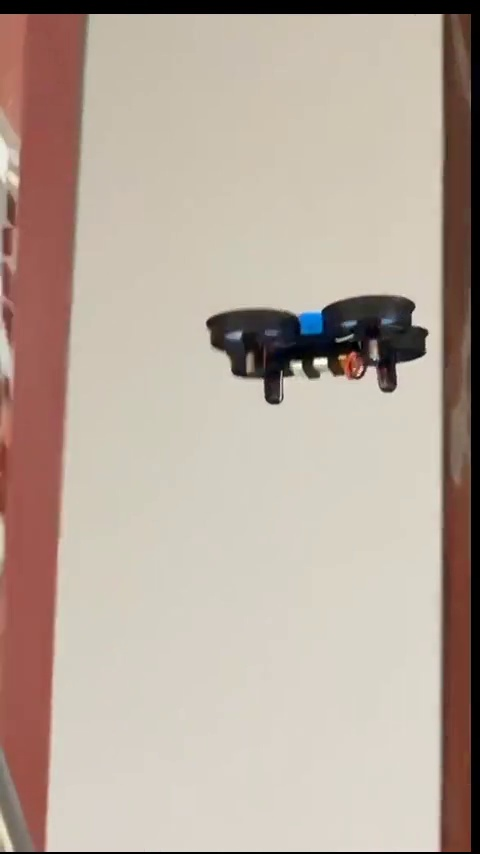drone: (200, 294, 428, 397)
